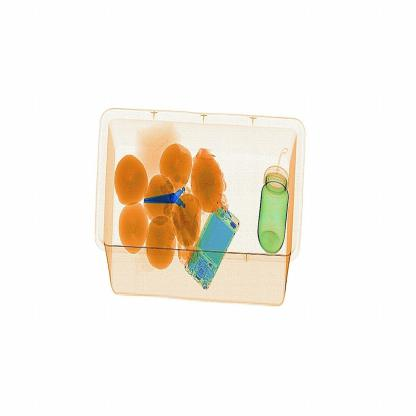gun: (143, 172, 207, 220)
